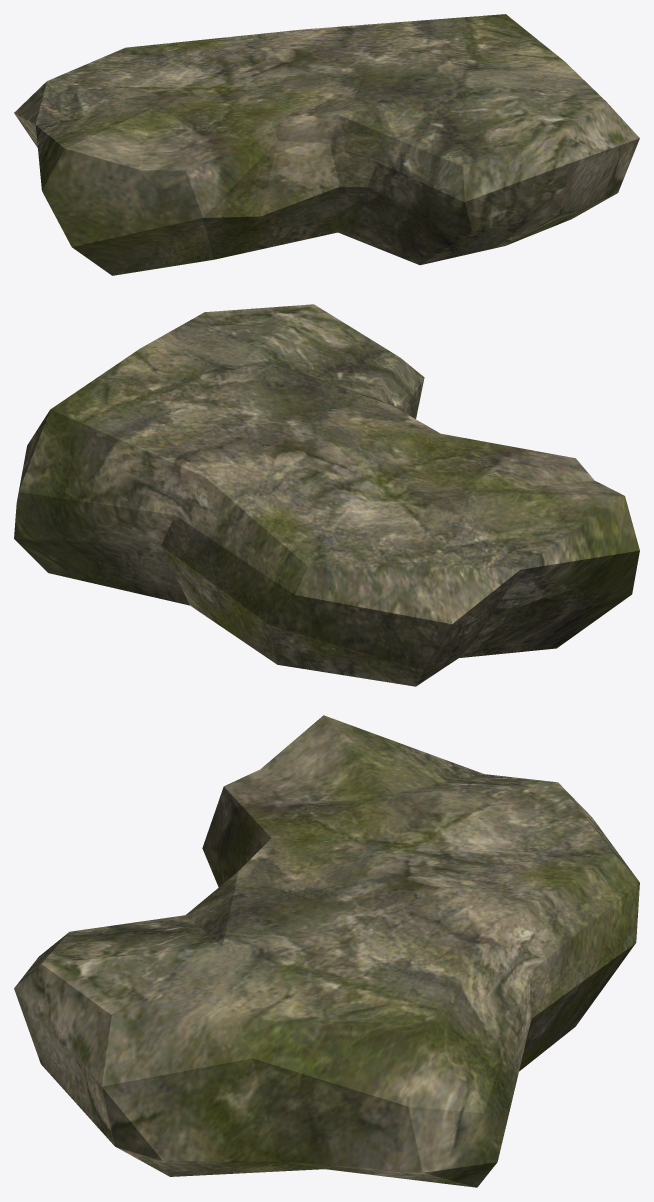
Rendered from Youshuizhou_zhiwu_016_3.FBX.
3 renders of one model, top to bottom at view 1: azimuth 30°, elevation 25°; view 2: azimuth 150°, elevation 25°; view 3: azimuth 270°, elevation 25°, orthographic. The views are drawn at different scales.
Visible parts, largest first — view 1: gy_st_yanshi001_lj3; view 2: gy_st_yanshi001_lj3; view 3: gy_st_yanshi001_lj3.
Boxes of the visible parts, <box> form: gy_st_yanshi001_lj3: <box>14,14,639,275</box>; gy_st_yanshi001_lj3: <box>14,304,639,686</box>; gy_st_yanshi001_lj3: <box>14,715,639,1187</box>.
Size of the model in its own units: 551 by 151 by 435.
